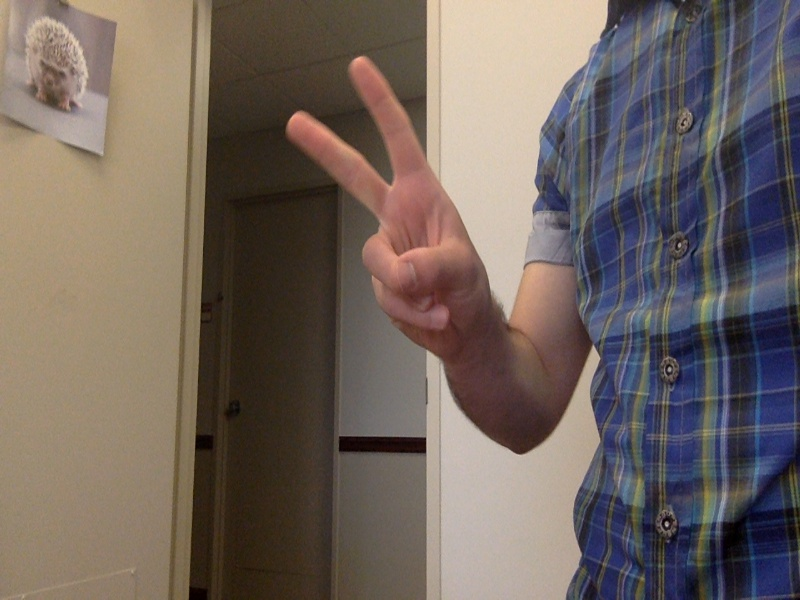2-hand: (283, 56, 489, 358)
